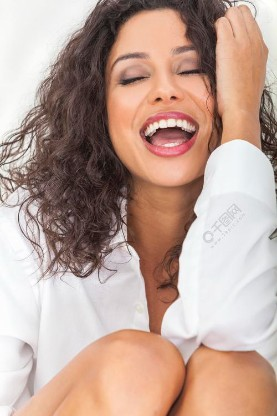张嘴: (138, 112, 203, 152)
